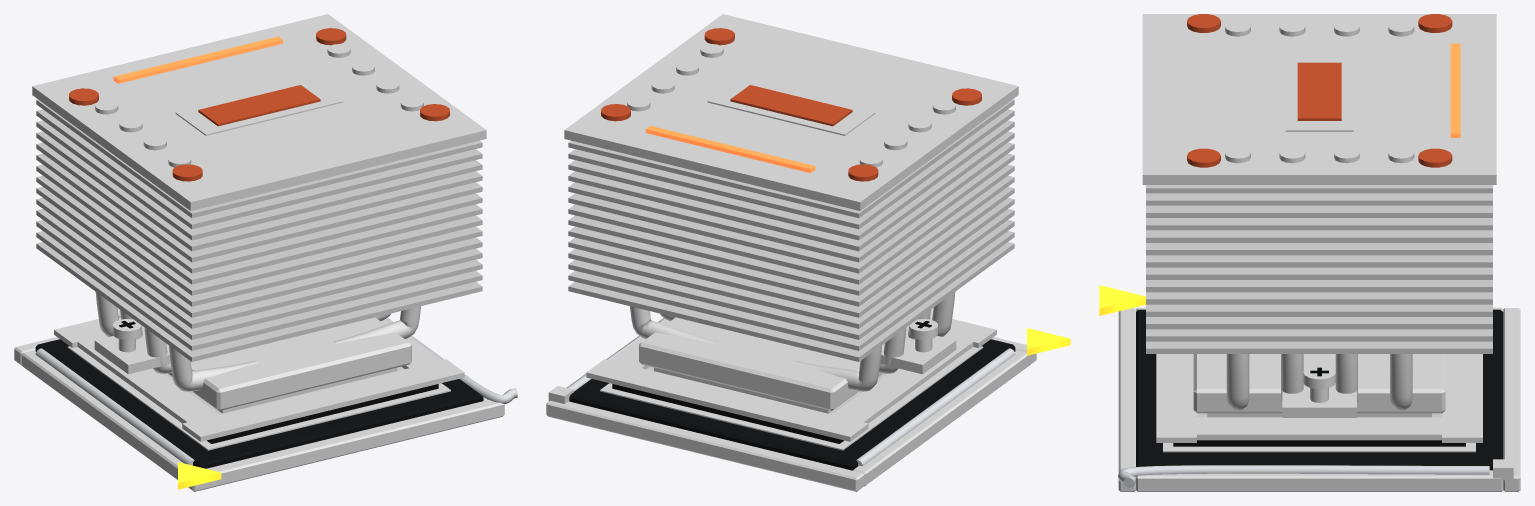
The model's file is hwm_cpu_ryzen9_5950x.glb.
3 views of the same model, side by side, from view 1: azimuth 30°, elevation 25°; view 2: azimuth 150°, elevation 25°; view 3: azimuth 270°, elevation 25° (orthographic). The views are drawn at different scales.
Parts seen in each view (by area): view 1: Cooler, Socket, Frame, CPU, Screw_0, Lever; view 2: Cooler, Socket, Frame, CPU, Screw_0; view 3: Cooler, Socket, Frame, Lever, CPU, Screw_1.
Boxes of the visible parts, x1,y1,x2,y2 form: Cooler: (32, 14, 486, 410); Socket: (14, 320, 504, 491); Frame: (54, 319, 464, 441); CPU: (164, 366, 438, 443); Screw_0: (113, 319, 141, 352); Lever: (385, 317, 517, 403); Cooler: (564, 14, 1018, 410); Socket: (546, 317, 1070, 491); Frame: (586, 319, 996, 441); CPU: (612, 366, 886, 443); Screw_0: (909, 319, 937, 352); Cooler: (1142, 14, 1496, 417); Socket: (1099, 285, 1520, 491); Frame: (1156, 354, 1482, 442); Lever: (1118, 465, 1489, 487); CPU: (1173, 413, 1465, 446); Screw_1: (1303, 365, 1335, 402).
Size of the model in its own units: 0.1338 by 0.1036 by 0.1239.
